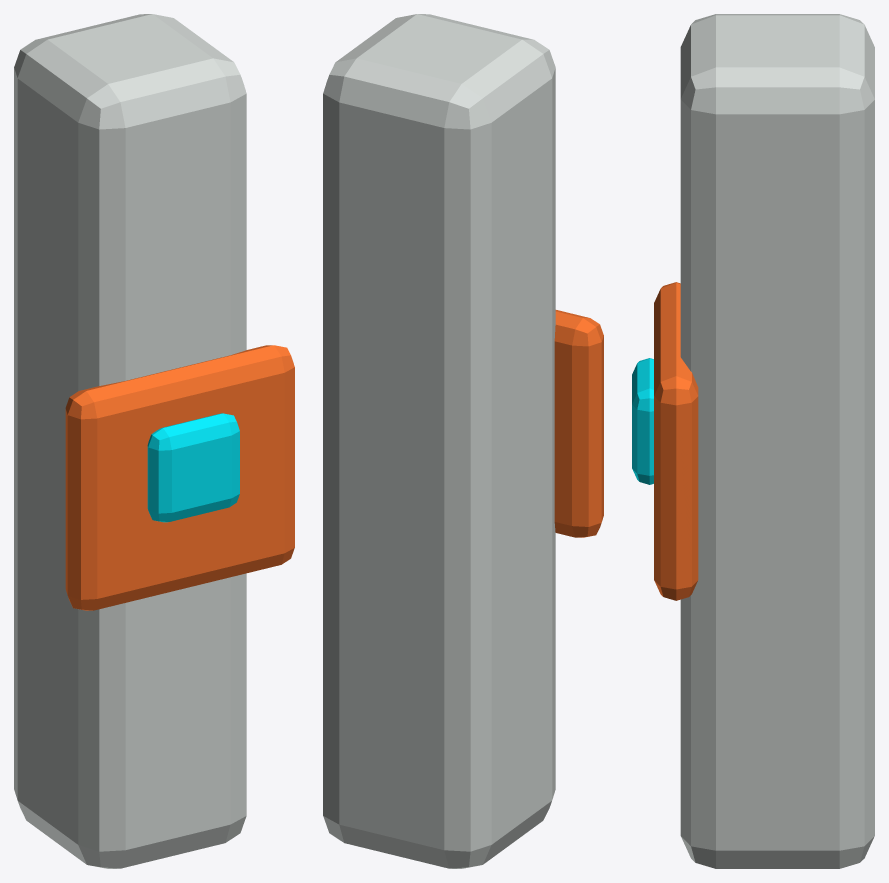
Rendered from LPK_DamagedPipe_2m.fbx.
3 views of the same model, side by side, from view 1: azimuth 30°, elevation 25°; view 2: azimuth 150°, elevation 25°; view 3: azimuth 270°, elevation 25° (orthographic).
Parts seen in each view (by area): view 1: DamagedPipe, DamageBand, DamageEmitter; view 2: DamagedPipe, DamageBand; view 3: DamagedPipe, DamageBand, DamageEmitter.
Part boxes in pixels (x1,y1,x2,y2): DamagedPipe: (14,14,246,868); DamageBand: (65,345,294,610); DamageEmitter: (147,413,239,522); DamagedPipe: (323,14,555,868); DamageBand: (554,310,603,537); DamagedPipe: (680,14,874,868); DamageBand: (654,282,698,600); DamageEmitter: (632,358,653,484).
Size of the model in its own units: 0.6 by 2 by 0.55.
